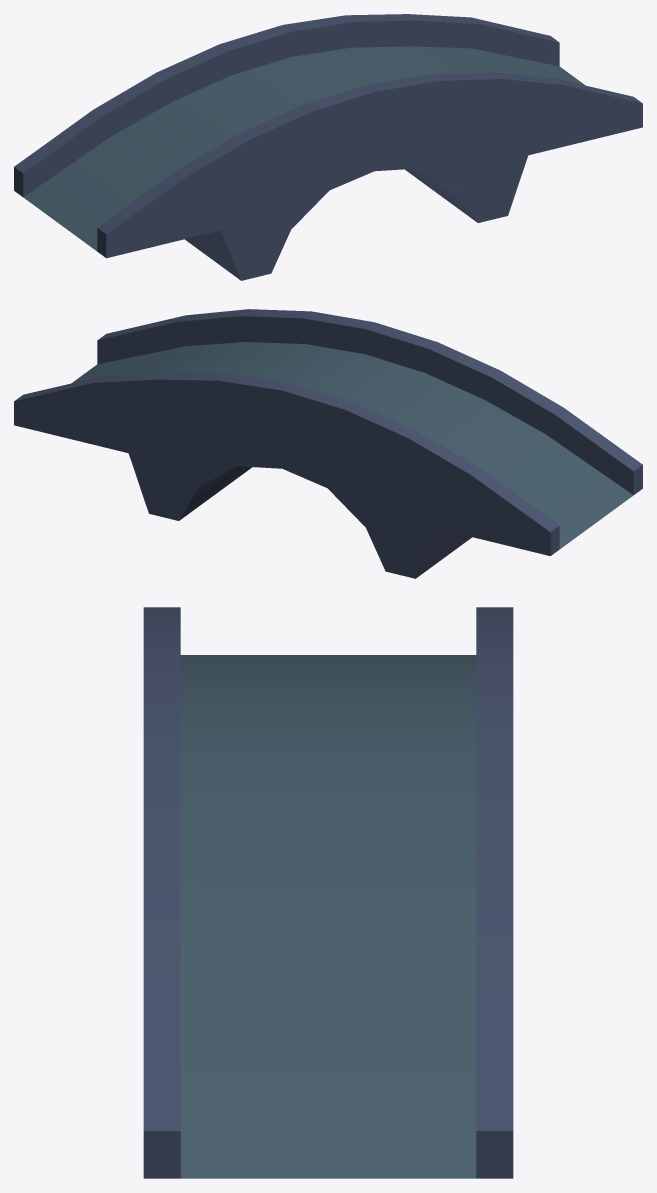
The model's file is Farm_Bridge_01.fbx.
The picture shows the model from 3 angles, top to bottom: view 1: azimuth 30°, elevation 25°; view 2: azimuth 150°, elevation 25°; view 3: azimuth 270°, elevation 25°; orthographic projection. The views are drawn at different scales.
Visible parts, largest first — view 1: Bridge; view 2: Bridge; view 3: Bridge.
Part boxes in pixels (x1,y1,x2,y2): Bridge: [14, 14, 642, 280]; Bridge: [14, 309, 642, 578]; Bridge: [143, 607, 513, 1178].
Size of the model in its own units: 1341 by 374 by 400.
